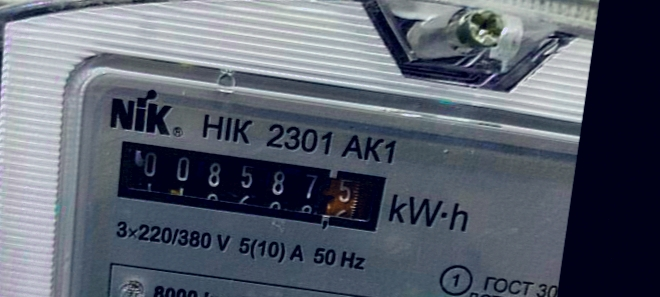0: (139, 148, 160, 179), (173, 154, 193, 184)
5: (335, 176, 356, 207), (236, 162, 257, 192)
7: (299, 170, 320, 202)
8: (267, 166, 289, 198), (204, 159, 224, 189)
screen: (94, 122, 405, 247)
